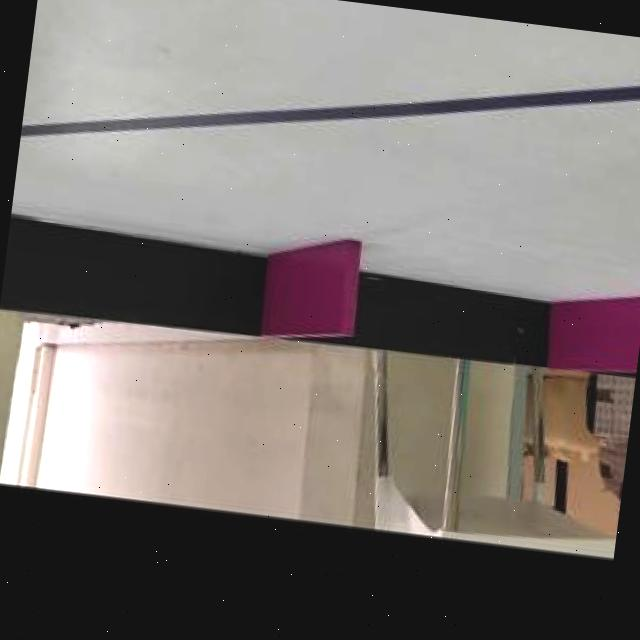xparking: (268, 232, 362, 340), (554, 287, 640, 379)
